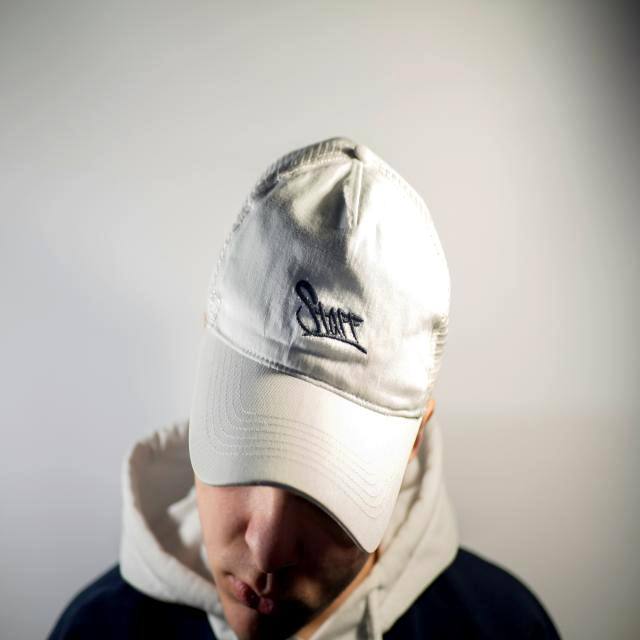no_hard_hat: (189, 137, 450, 505)
person: (49, 137, 559, 640)
